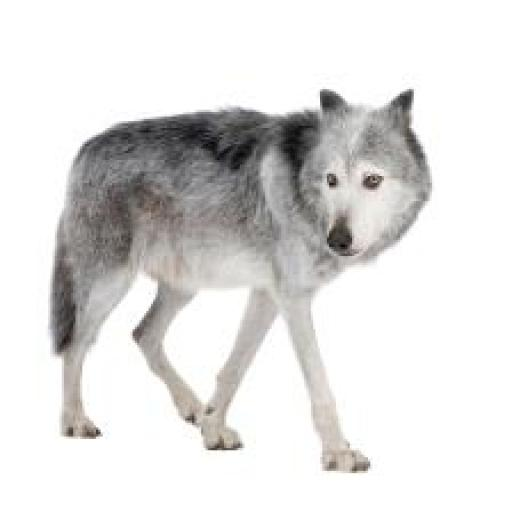wolf: (46, 89, 454, 472)
